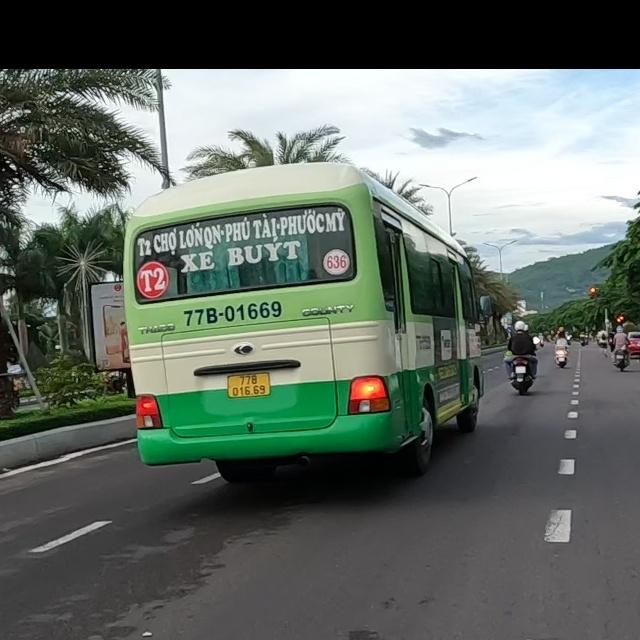license-plate: (227, 373, 271, 399)
